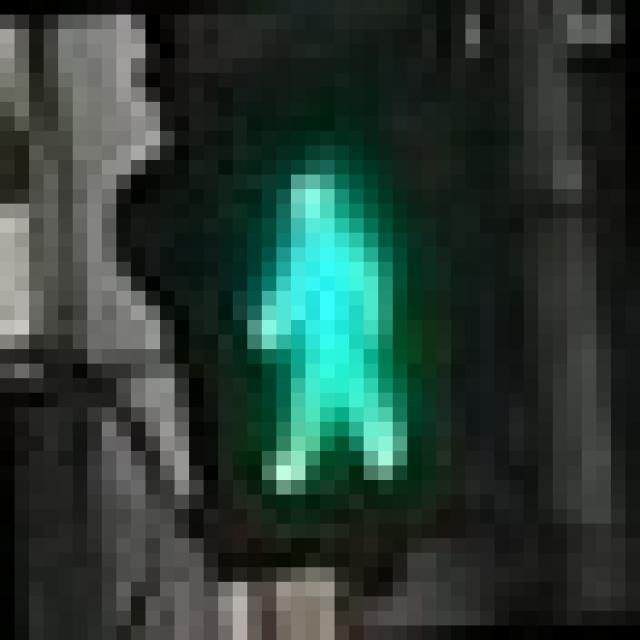green_light: (102, 72, 494, 538)
